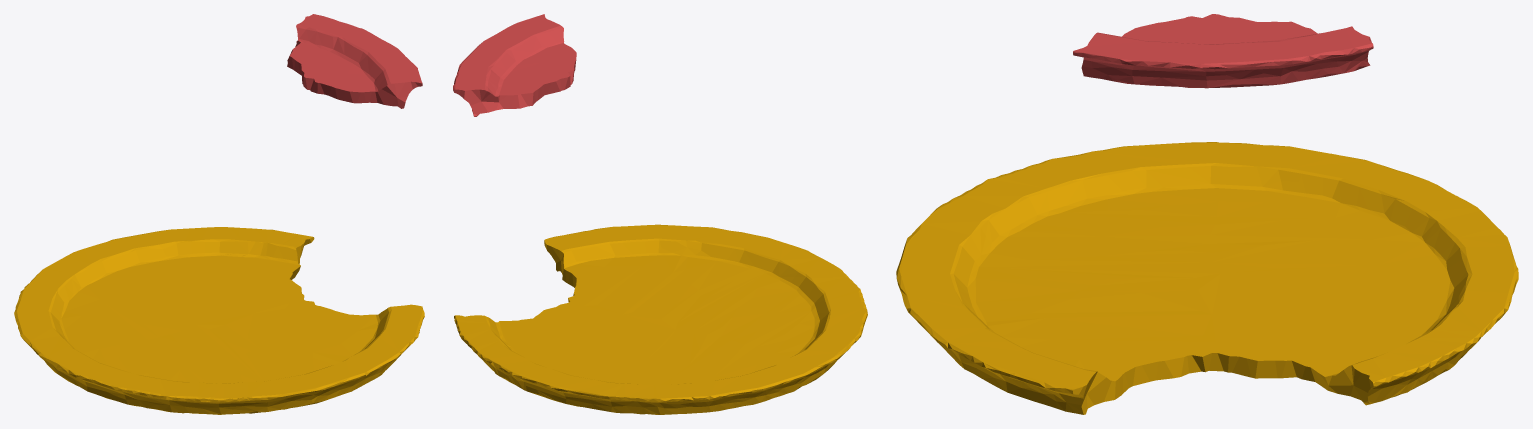
The model's file is fractured_30_2pcs_transformed.glb.
3 views of the same model, side by side, from view 1: azimuth 30°, elevation 25°; view 2: azimuth 150°, elevation 25°; view 3: azimuth 270°, elevation 25° (orthographic). The views are drawn at different scales.
Parts seen in each view (by area): view 1: piece_0.obj, piece_1.obj; view 2: piece_0.obj, piece_1.obj; view 3: piece_0.obj, piece_1.obj.
Boxes of the visible parts, x1,y1,x2,y2 form: piece_0.obj: [14, 227, 424, 414]; piece_1.obj: [287, 14, 422, 108]; piece_0.obj: [454, 224, 867, 414]; piece_1.obj: [453, 14, 576, 116]; piece_0.obj: [896, 142, 1518, 414]; piece_1.obj: [1073, 14, 1373, 88].
Bounding box in the file's own units: 1 × 0.6672 × 0.9991.
